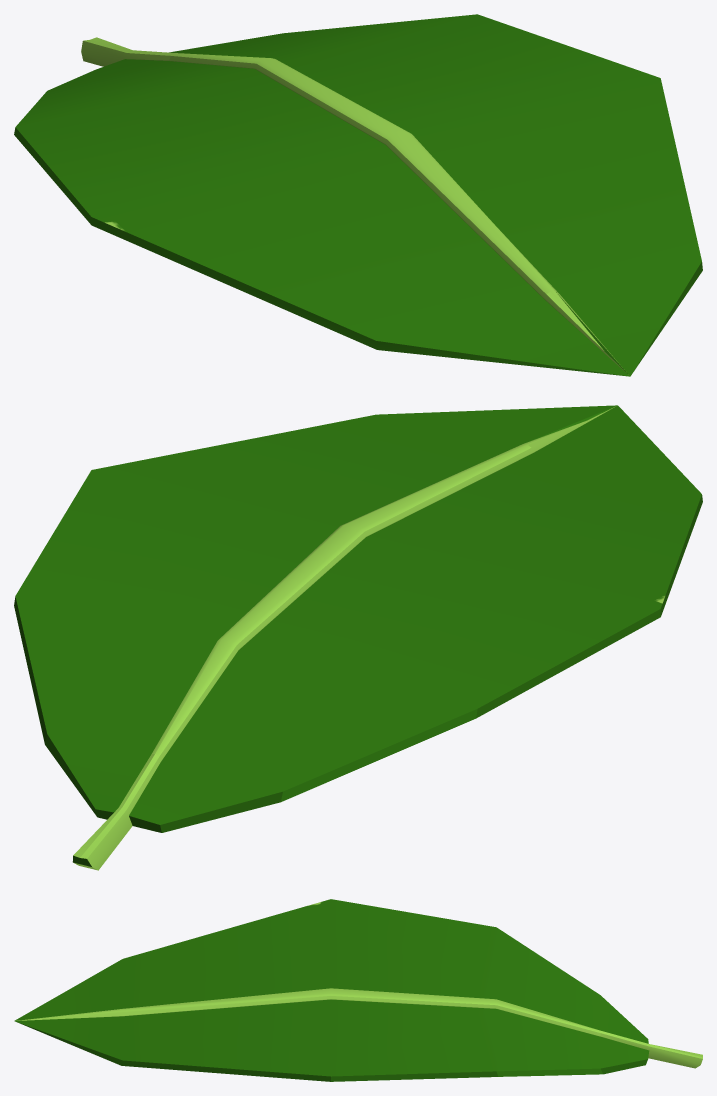
File: leaf.fbx
The picture shows the model from 3 angles, top to bottom: view 1: azimuth 30°, elevation 25°; view 2: azimuth 150°, elevation 25°; view 3: azimuth 270°, elevation 25°; orthographic projection. The views are drawn at different scales.
Parts seen in each view (by area): view 1: pPlane2; view 2: pPlane2; view 3: pPlane2.
Part boxes in pixels (x1,y1,x2,y2): pPlane2: (14,14,702,376); pPlane2: (14,405,702,870); pPlane2: (14,899,702,1081).
Bounding box in the file's own units: 2.51 × 0.5348 × 4.11.
Materials: 1 (1 with a texture image).
